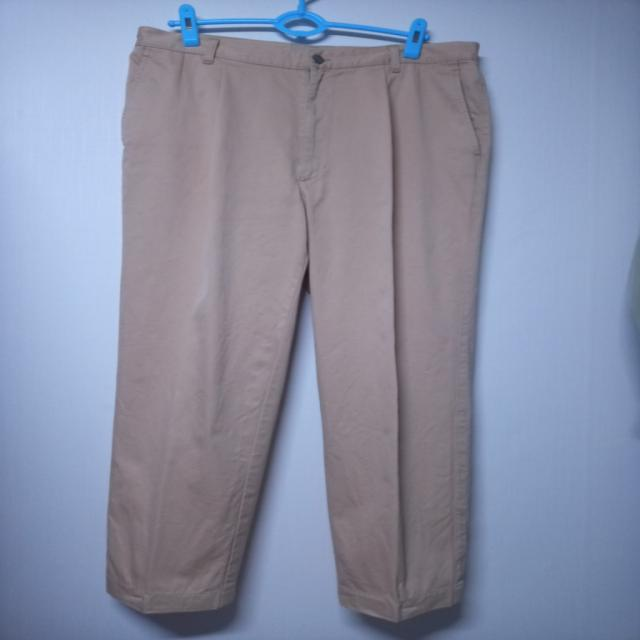long-pants: (109, 22, 491, 624)
